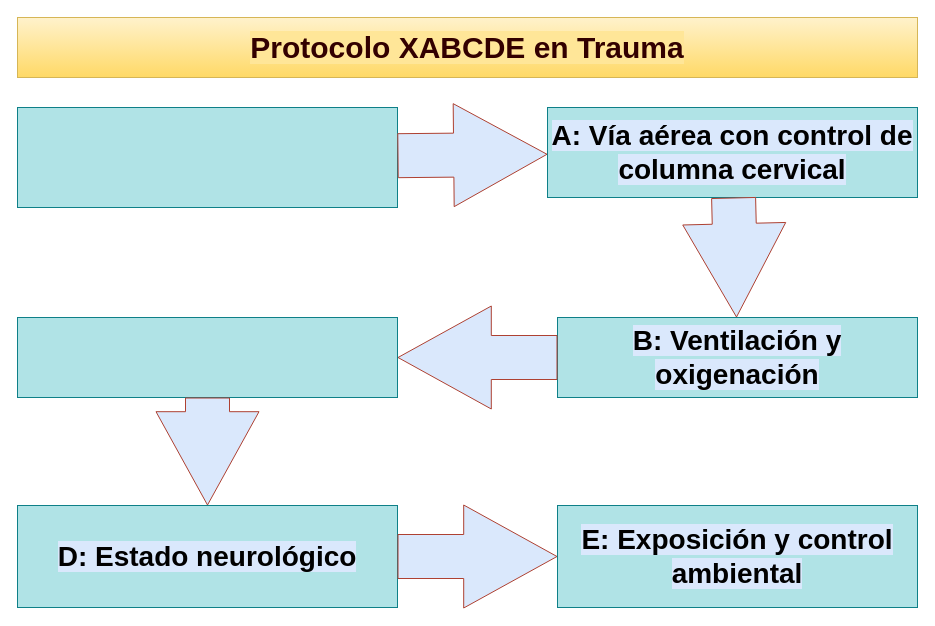
Some shapes in this 935 by 626 pixel diagram are drawn without their labels. Here are the shapes that lost their labels. From the top down, the box of each, then its label:
(16, 106, 398, 208): X: Control de hemorragias masivas
(16, 316, 398, 398): C: Circulación con control de hemorragias
